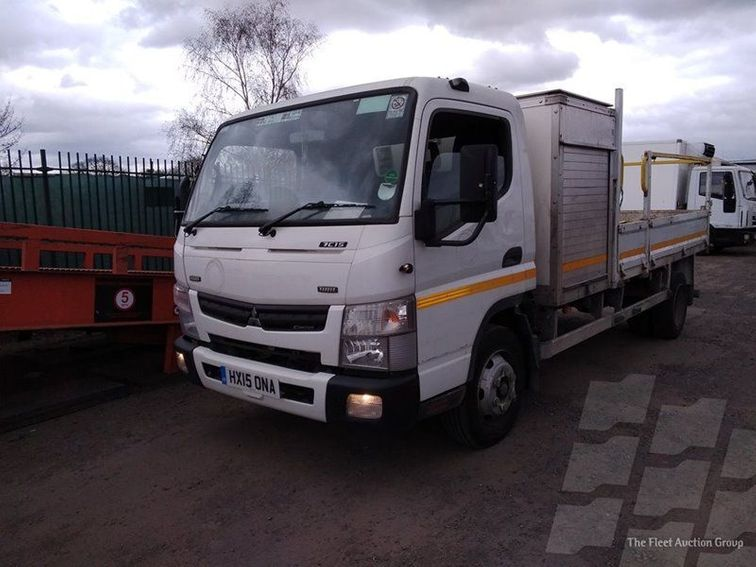Semi: (169, 75, 714, 452)
